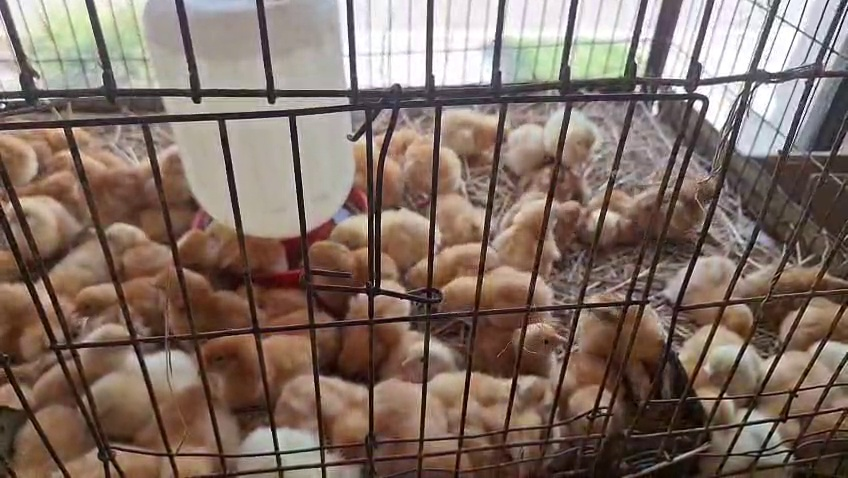Pollo: (353, 357, 459, 461), (545, 292, 655, 390), (200, 317, 312, 402), (674, 378, 771, 476), (157, 334, 221, 477), (421, 348, 500, 459), (236, 410, 366, 474), (93, 335, 186, 422), (655, 250, 756, 328), (328, 264, 397, 378), (267, 361, 376, 432), (484, 191, 575, 275), (540, 332, 626, 418), (150, 267, 259, 333), (9, 388, 88, 478), (478, 353, 551, 445), (416, 265, 527, 325), (335, 203, 441, 265), (772, 378, 848, 464), (3, 216, 105, 279), (296, 228, 398, 291), (746, 251, 846, 315), (106, 138, 200, 205), (198, 211, 287, 281), (683, 320, 761, 399), (96, 205, 172, 285), (153, 217, 225, 298), (757, 270, 848, 334), (74, 425, 179, 477), (626, 180, 705, 247), (463, 311, 548, 371), (410, 187, 485, 251), (3, 278, 63, 355), (738, 332, 809, 397), (780, 321, 847, 387), (426, 102, 504, 157), (561, 183, 626, 247), (389, 125, 453, 188), (70, 156, 136, 217), (414, 235, 497, 283), (6, 188, 83, 239), (273, 292, 339, 346), (544, 103, 602, 164), (378, 319, 446, 368), (67, 277, 142, 320), (22, 351, 97, 392), (60, 324, 135, 363), (504, 108, 546, 177), (520, 154, 579, 199), (0, 137, 42, 191), (352, 139, 391, 195), (490, 449, 549, 477), (490, 185, 580, 202)
